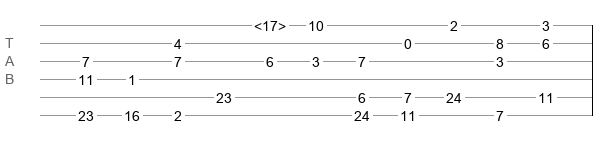0: (404, 36, 412, 46)
1: (128, 72, 136, 82)
10: (308, 18, 324, 28)
11: (78, 72, 94, 82), (400, 108, 416, 118), (538, 90, 554, 100)
16: (124, 108, 140, 118)
2: (174, 108, 182, 118), (450, 18, 458, 28)
23: (78, 108, 94, 118), (216, 90, 232, 100)
24: (354, 108, 370, 118), (446, 90, 462, 100)
3: (312, 54, 320, 64), (496, 54, 504, 64), (542, 18, 550, 28)
4: (174, 36, 182, 46)
6: (266, 54, 274, 64), (358, 90, 366, 100), (542, 36, 550, 46)
7: (82, 54, 90, 64), (174, 54, 182, 64), (358, 54, 366, 64), (404, 90, 412, 100), (496, 108, 504, 118)
8: (496, 36, 504, 46)
harmonic: (254, 18, 286, 28)
